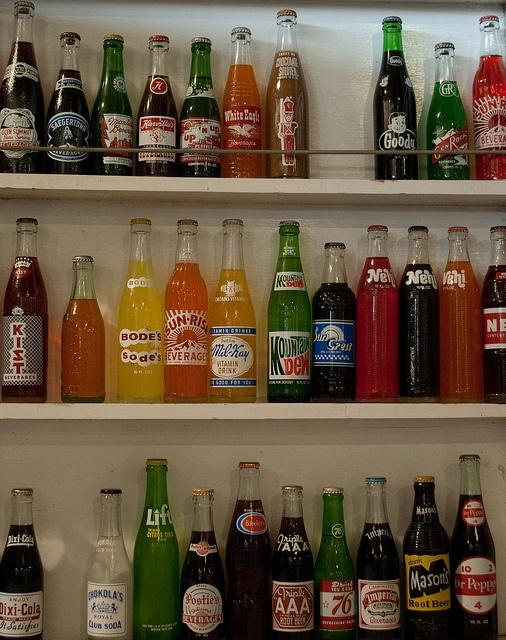glass: (360, 223, 506, 405), (119, 216, 256, 404), (0, 0, 86, 167), (448, 454, 498, 640), (133, 459, 182, 640), (1, 212, 48, 400), (266, 222, 315, 402), (398, 472, 452, 635), (369, 13, 421, 181), (262, 7, 313, 177), (222, 462, 270, 640), (83, 486, 135, 638), (357, 474, 403, 638), (0, 486, 45, 637), (88, 33, 138, 166), (467, 11, 506, 180), (316, 240, 357, 398), (424, 42, 472, 175), (176, 36, 224, 169), (63, 253, 106, 401), (222, 20, 264, 171), (274, 488, 315, 640), (313, 482, 353, 632), (187, 486, 224, 640), (137, 33, 177, 168)
